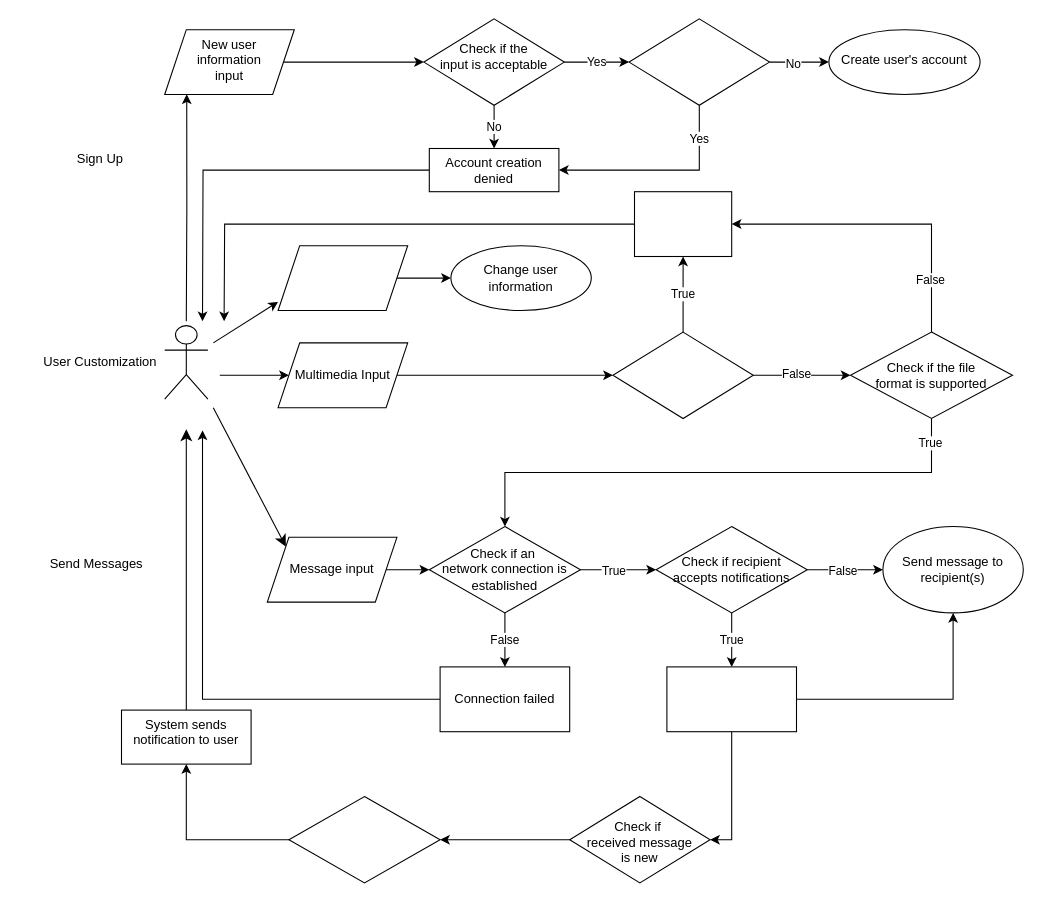
This 1042x902 diagram has some shape labels left out. Each missing label, with the box of its shape:
Check if an account for the user exists: (628, 18, 770, 105)
Check if size exceeds limit: (612, 331, 753, 418)
Check if user accept notification: (288, 795, 440, 883)
Reject input: (633, 191, 732, 256)
Send notification: (666, 666, 796, 732)
User: (164, 325, 208, 399)
User settings input: (277, 245, 408, 310)
